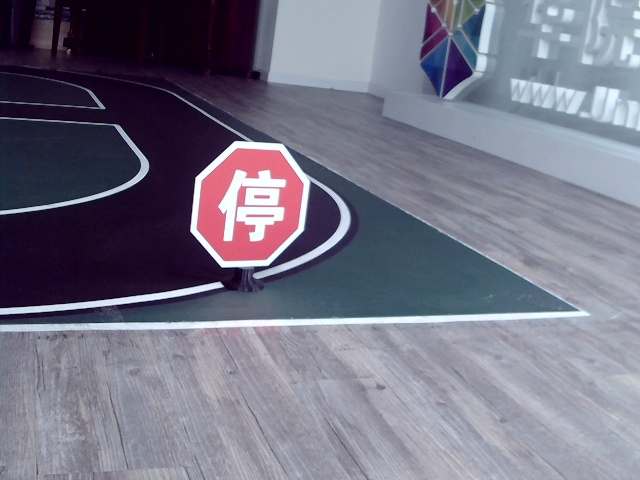stop: (219, 165, 285, 242)
